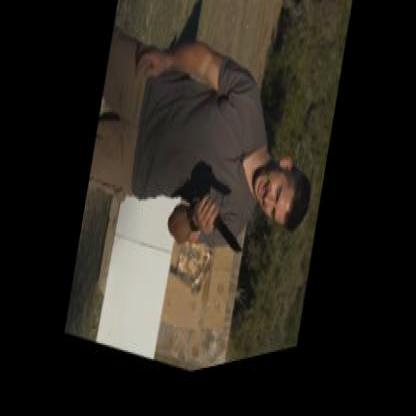knife: (195, 191, 252, 280)
